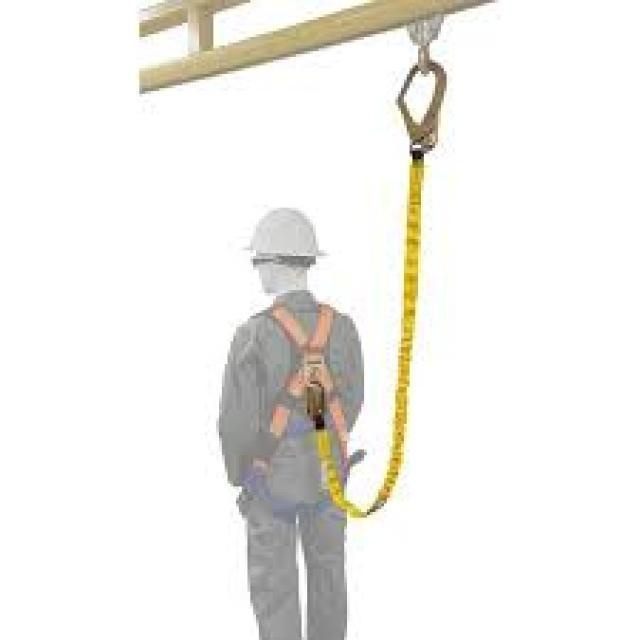Arnes_seguridad: (244, 297, 352, 505)
